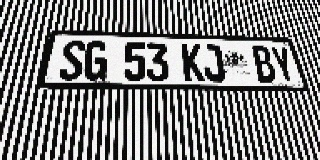3: (146, 43, 169, 81)
5: (124, 42, 146, 81)
B: (250, 46, 278, 82)
G: (82, 41, 108, 81)
J: (201, 44, 226, 82)
K: (181, 44, 205, 82)
S: (58, 40, 86, 80)
Y: (269, 46, 298, 83)
